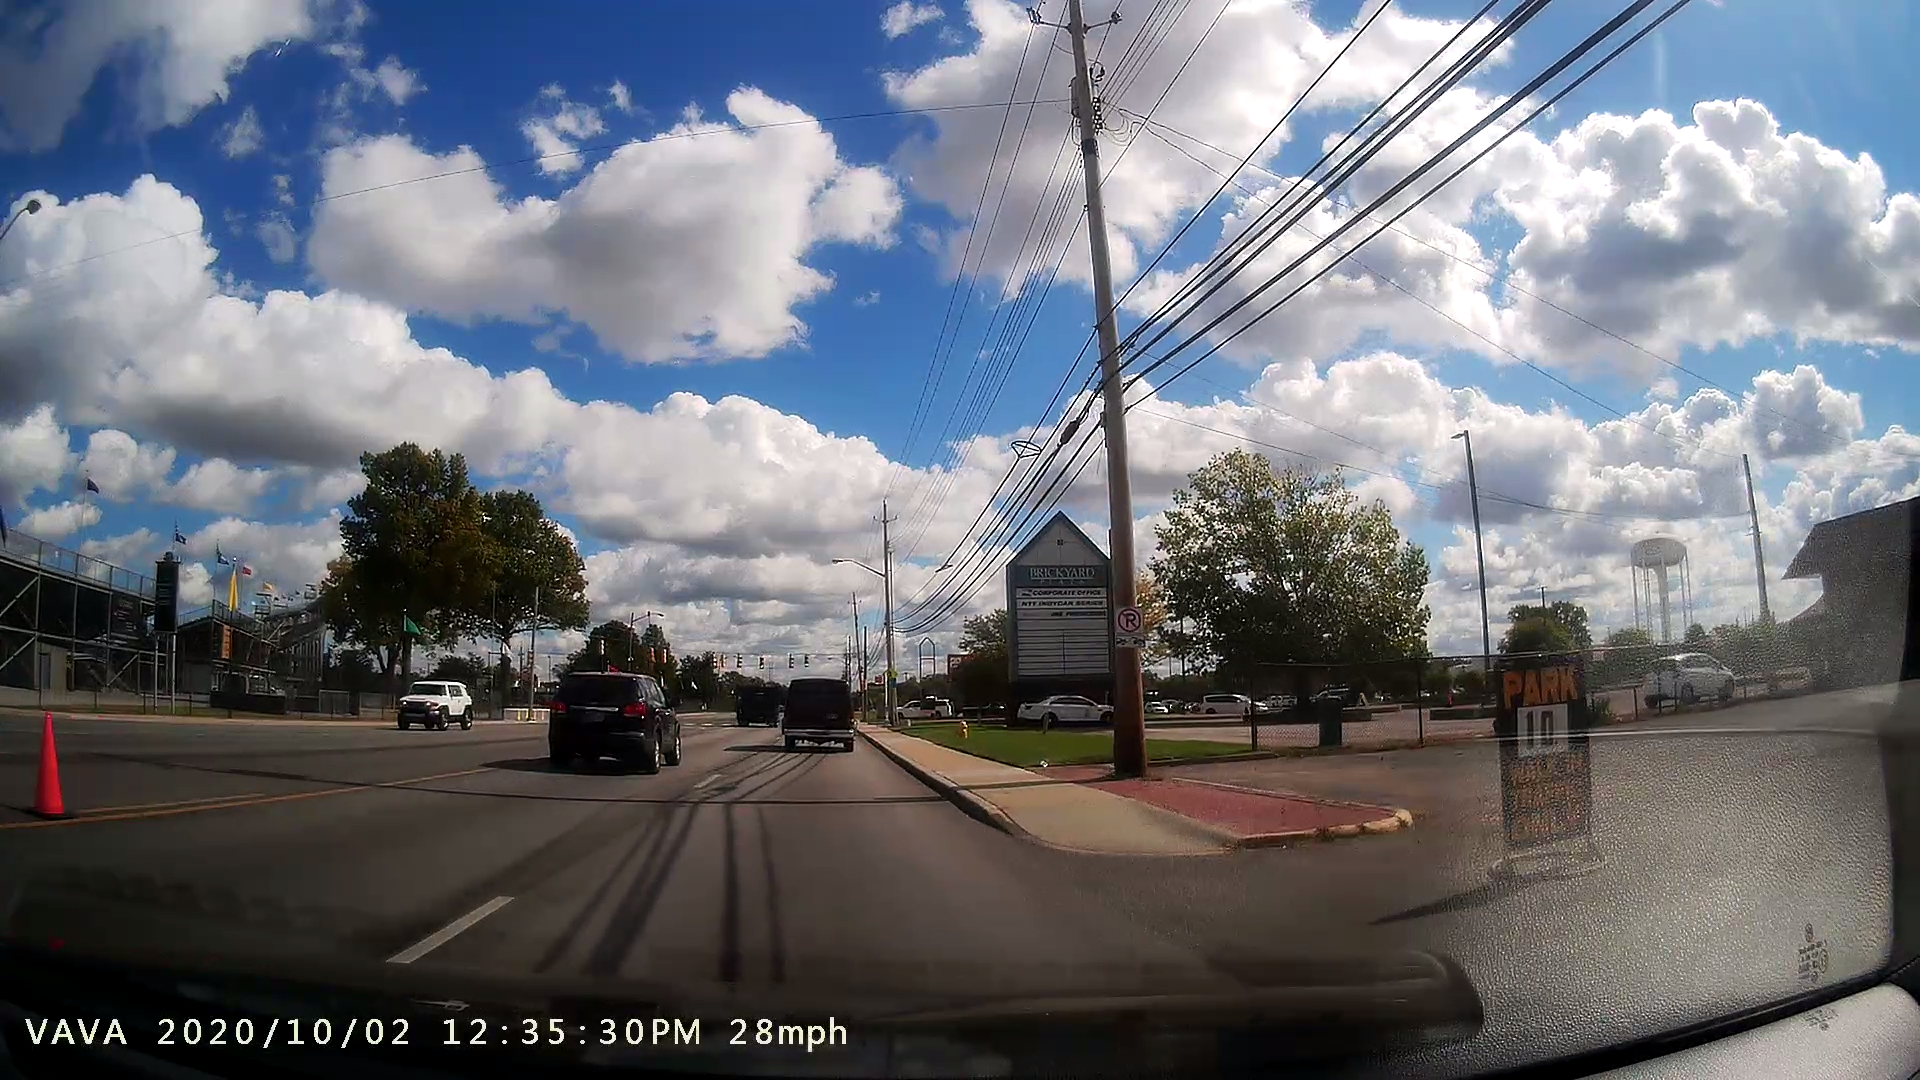const_cone: (1, 698, 94, 833)
